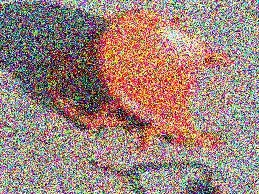chock: (23, 0, 246, 172)
